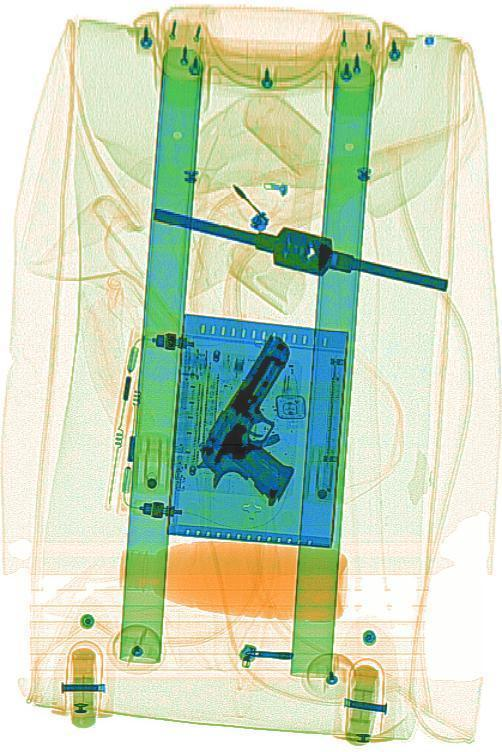Gun: (188, 325, 338, 537)
